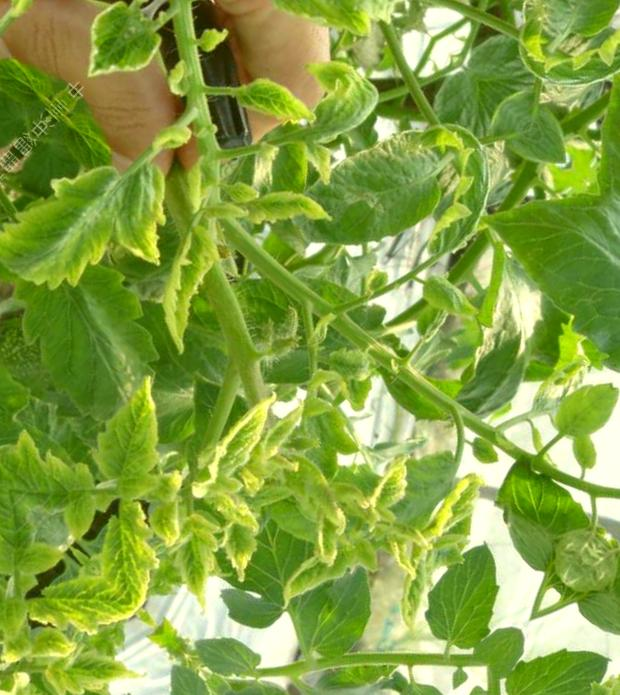Tomato leaf yellow virus: (0, 97, 205, 357), (98, 174, 289, 367), (63, 367, 212, 518), (254, 56, 396, 201), (226, 0, 401, 87), (181, 376, 302, 499), (0, 407, 111, 541), (76, 500, 189, 612), (82, 13, 177, 111), (348, 441, 436, 530)
